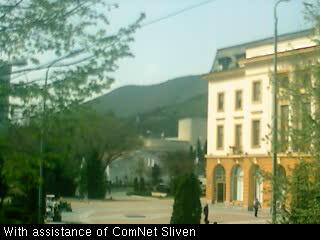person: (252, 197, 261, 218), (202, 202, 209, 221), (204, 219, 211, 224), (213, 221, 218, 224)
